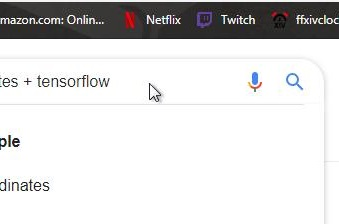cursor: (145, 80, 165, 106)
